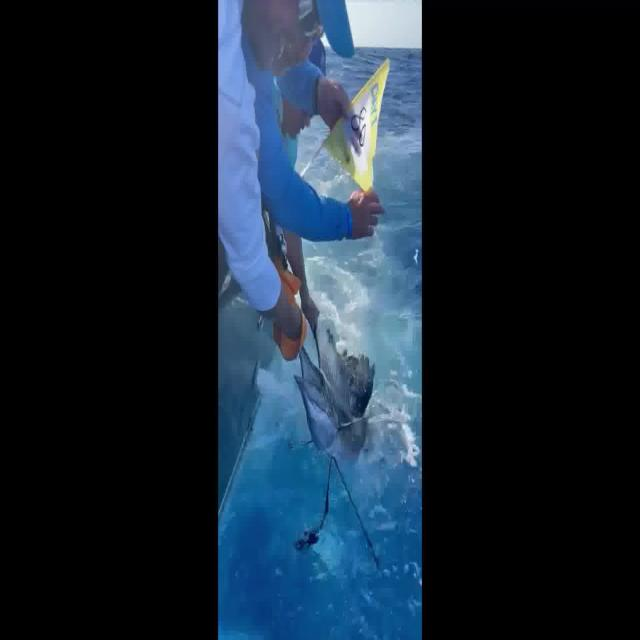Liberacion segura: (292, 318, 386, 573)
